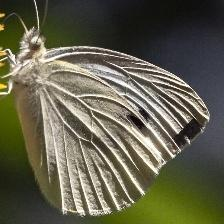butterfly: (0, 3, 210, 216)
